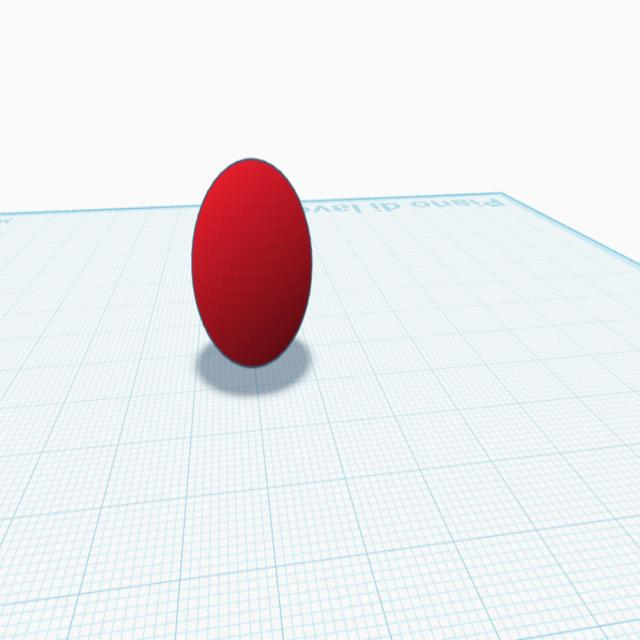sphere: (186, 153, 317, 373)
